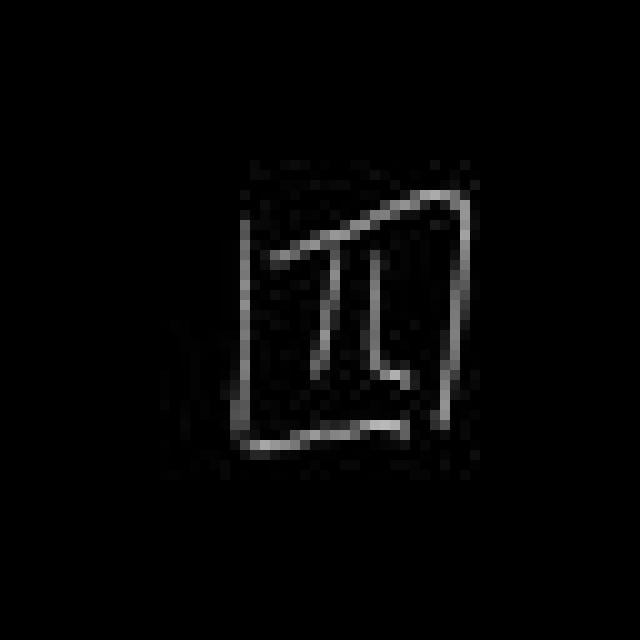4 -four-: (210, 179, 487, 469)
